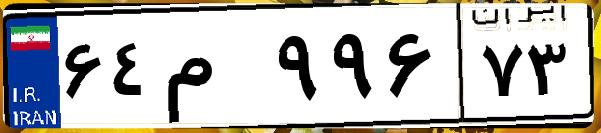3: (525, 38, 570, 115)
4: (110, 28, 158, 98)
6: (385, 28, 445, 110), (57, 26, 110, 100)
7: (475, 38, 525, 113)
9: (270, 28, 330, 110), (330, 28, 385, 110)
م: (158, 20, 270, 120)
